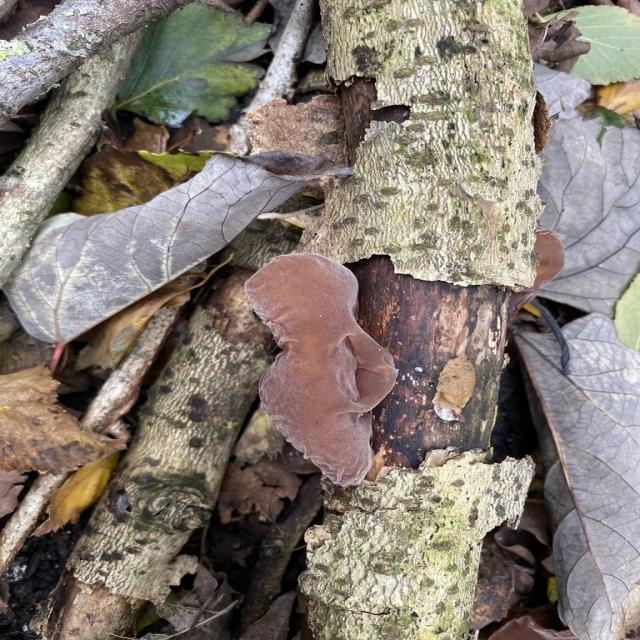Matang: (193, 238, 420, 483)
